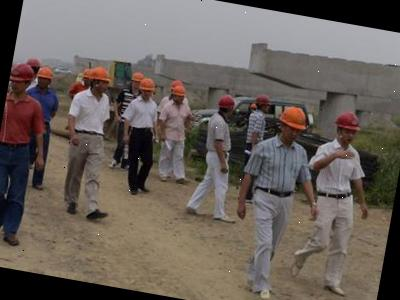helmet: (278, 103, 312, 132), (334, 109, 366, 133), (10, 62, 37, 84), (216, 92, 240, 112), (89, 64, 112, 84), (137, 76, 157, 94), (254, 92, 273, 107), (37, 66, 54, 81), (171, 84, 188, 98), (128, 69, 144, 82), (26, 56, 41, 69), (168, 78, 182, 90), (82, 66, 94, 79)
no_wear: (245, 134, 309, 213), (310, 138, 364, 200), (0, 91, 40, 152), (72, 90, 110, 139), (203, 112, 237, 158), (25, 86, 59, 130), (157, 100, 190, 143), (124, 95, 160, 133), (245, 110, 267, 144)
